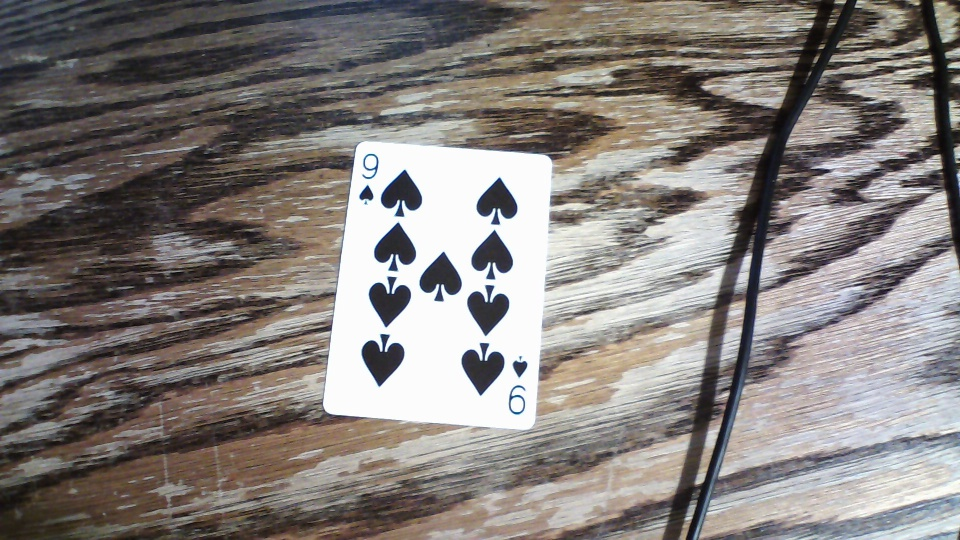nine: (323, 140, 554, 429)
